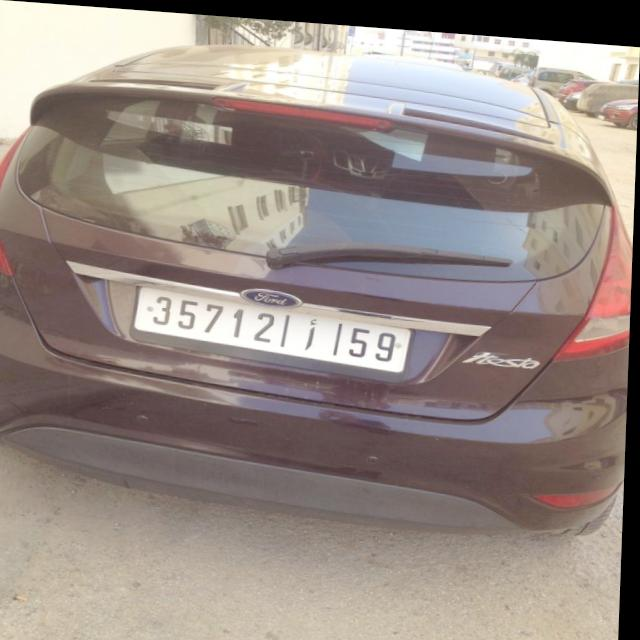License-Plate: (136, 286, 413, 366)
